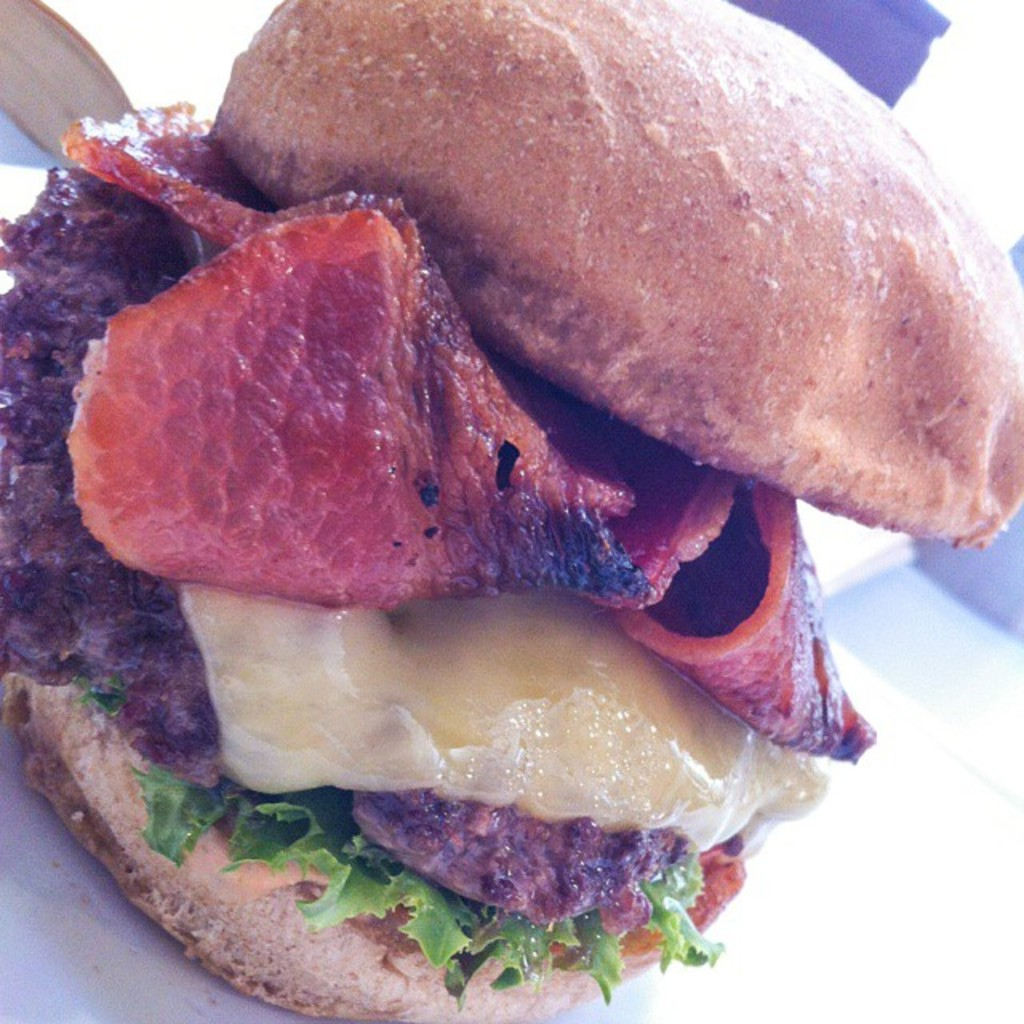Hamburger: (7, 0, 1022, 1022)
